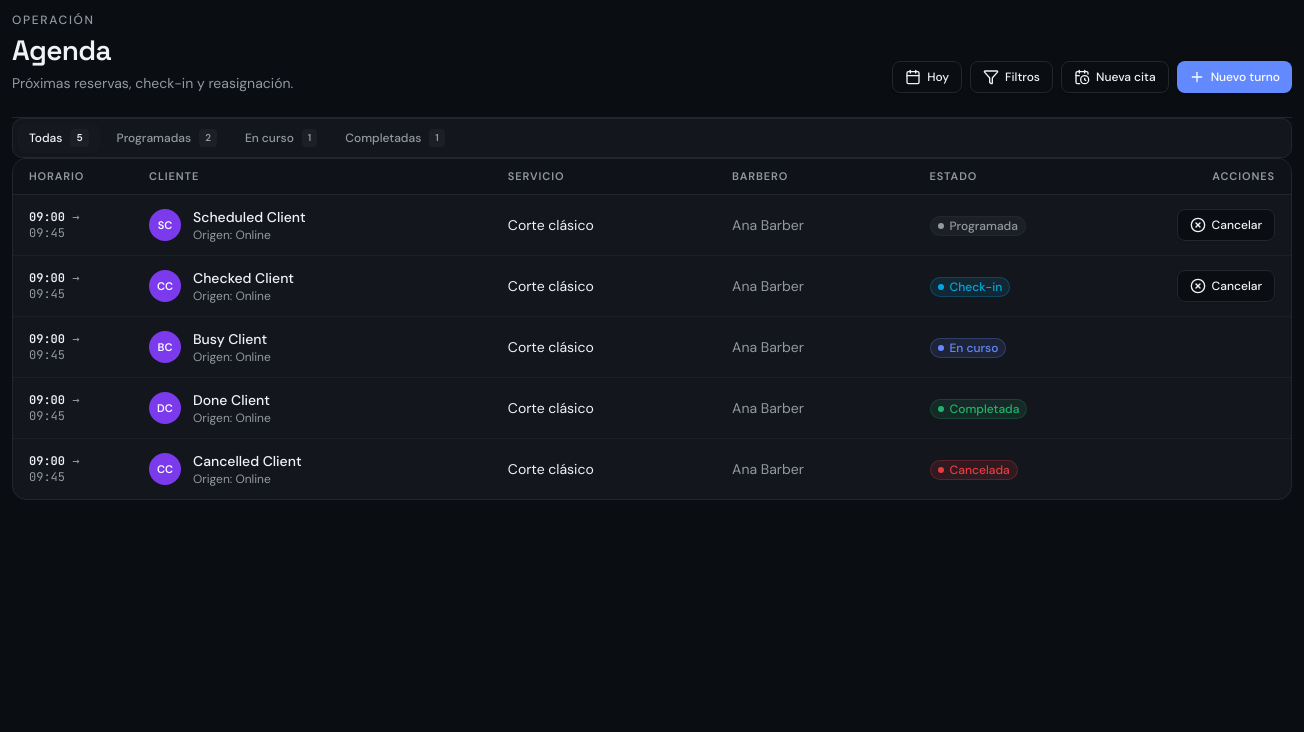
Scenario: AppointmentsView › filters API appointments by status tabs with fetched counts
Check: the text "Scheduled Client" is shown, box [193, 207, 306, 227]
Check: the button "Todas 5" is shown, box [17, 123, 101, 153]
Click the button "En curso 1".
click(281, 138)  # box [233, 123, 329, 153]
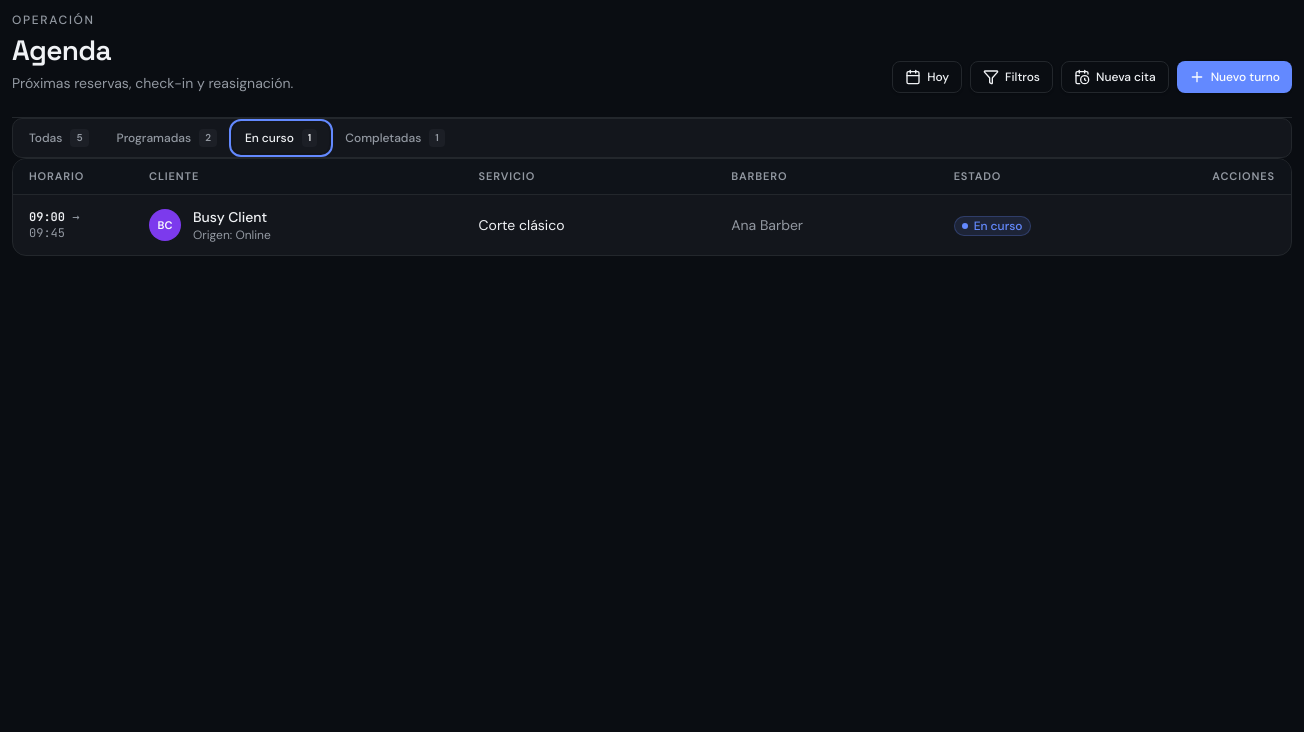
Check: the text "Busy Client" is shown, box [193, 207, 271, 227]
Check: the text "Scheduled Client" is gone
Check: the text "Cancelled Client" is gone
